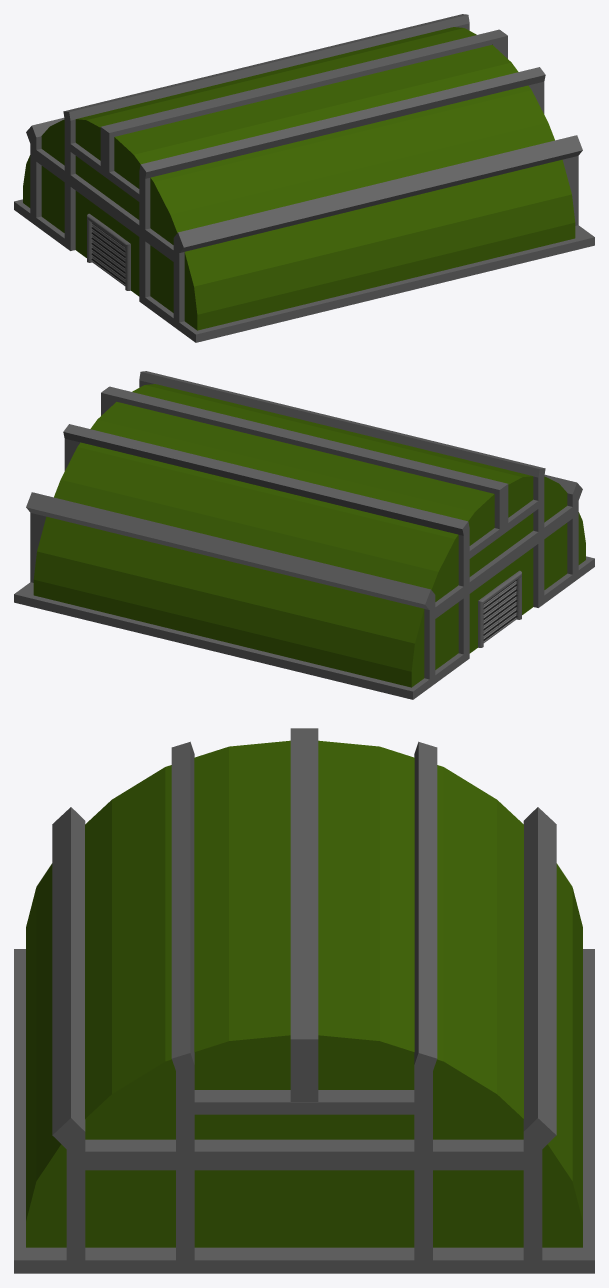
Rendered from warehous.fbx.
3 views of the same model, one above another, from view 1: azimuth 30°, elevation 25°; view 2: azimuth 150°, elevation 25°; view 3: azimuth 270°, elevation 25° (orthographic). The views are drawn at different scales.
Parts seen in each view (by area): view 1: Cube; view 2: Cube; view 3: Cube.
Boxes of the visible parts, <box> form: Cube: <box>14,14,594,342</box>; Cube: <box>14,371,594,699</box>; Cube: <box>14,728,594,1273</box>.
Size of the model in its own units: 501 by 176 by 395.
